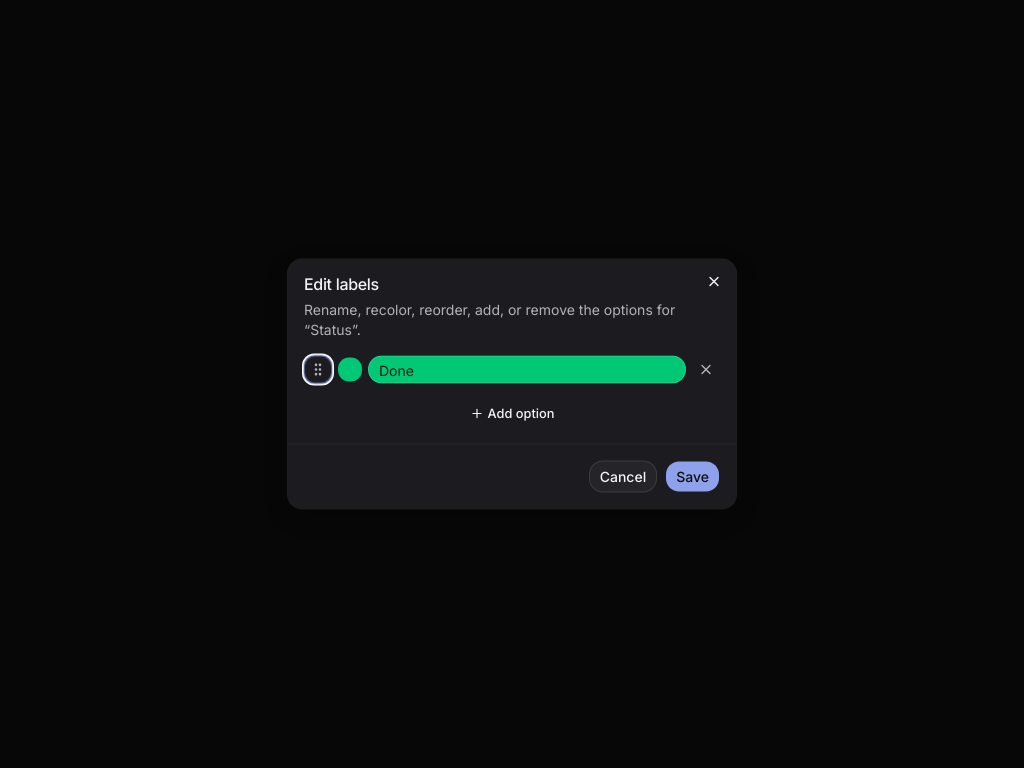
Scenario: ColumnOptionsDialog › removing an option that is in use shows a confirm with the usage count
Click the button named "remove Done" at (706,370), box [692,356,720,384]
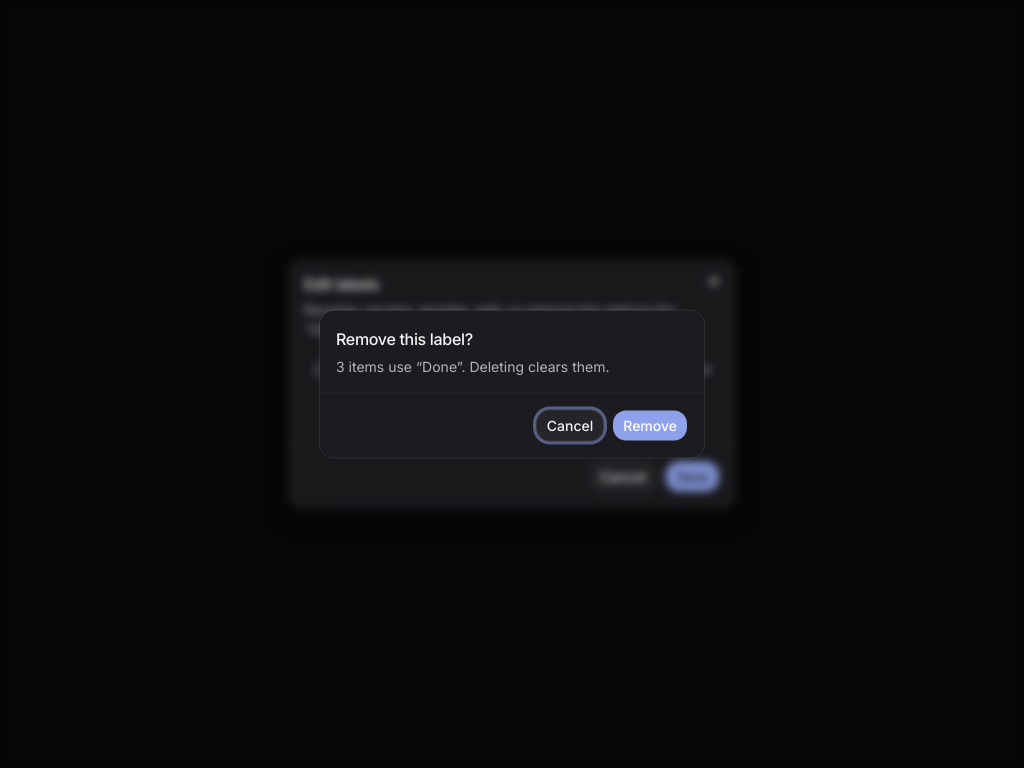
Check: the text "3 items use “Done”. Deleting clears them." is shown, box [336,356,610,376]
